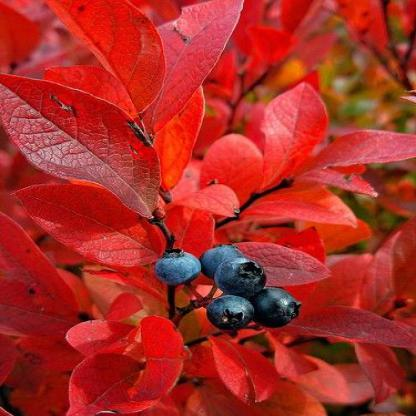blueberry leaf: (1, 67, 175, 221), (43, 1, 173, 116), (4, 182, 164, 262), (141, 6, 235, 123), (255, 76, 328, 206), (203, 333, 282, 409), (58, 354, 151, 415), (303, 304, 415, 354)
